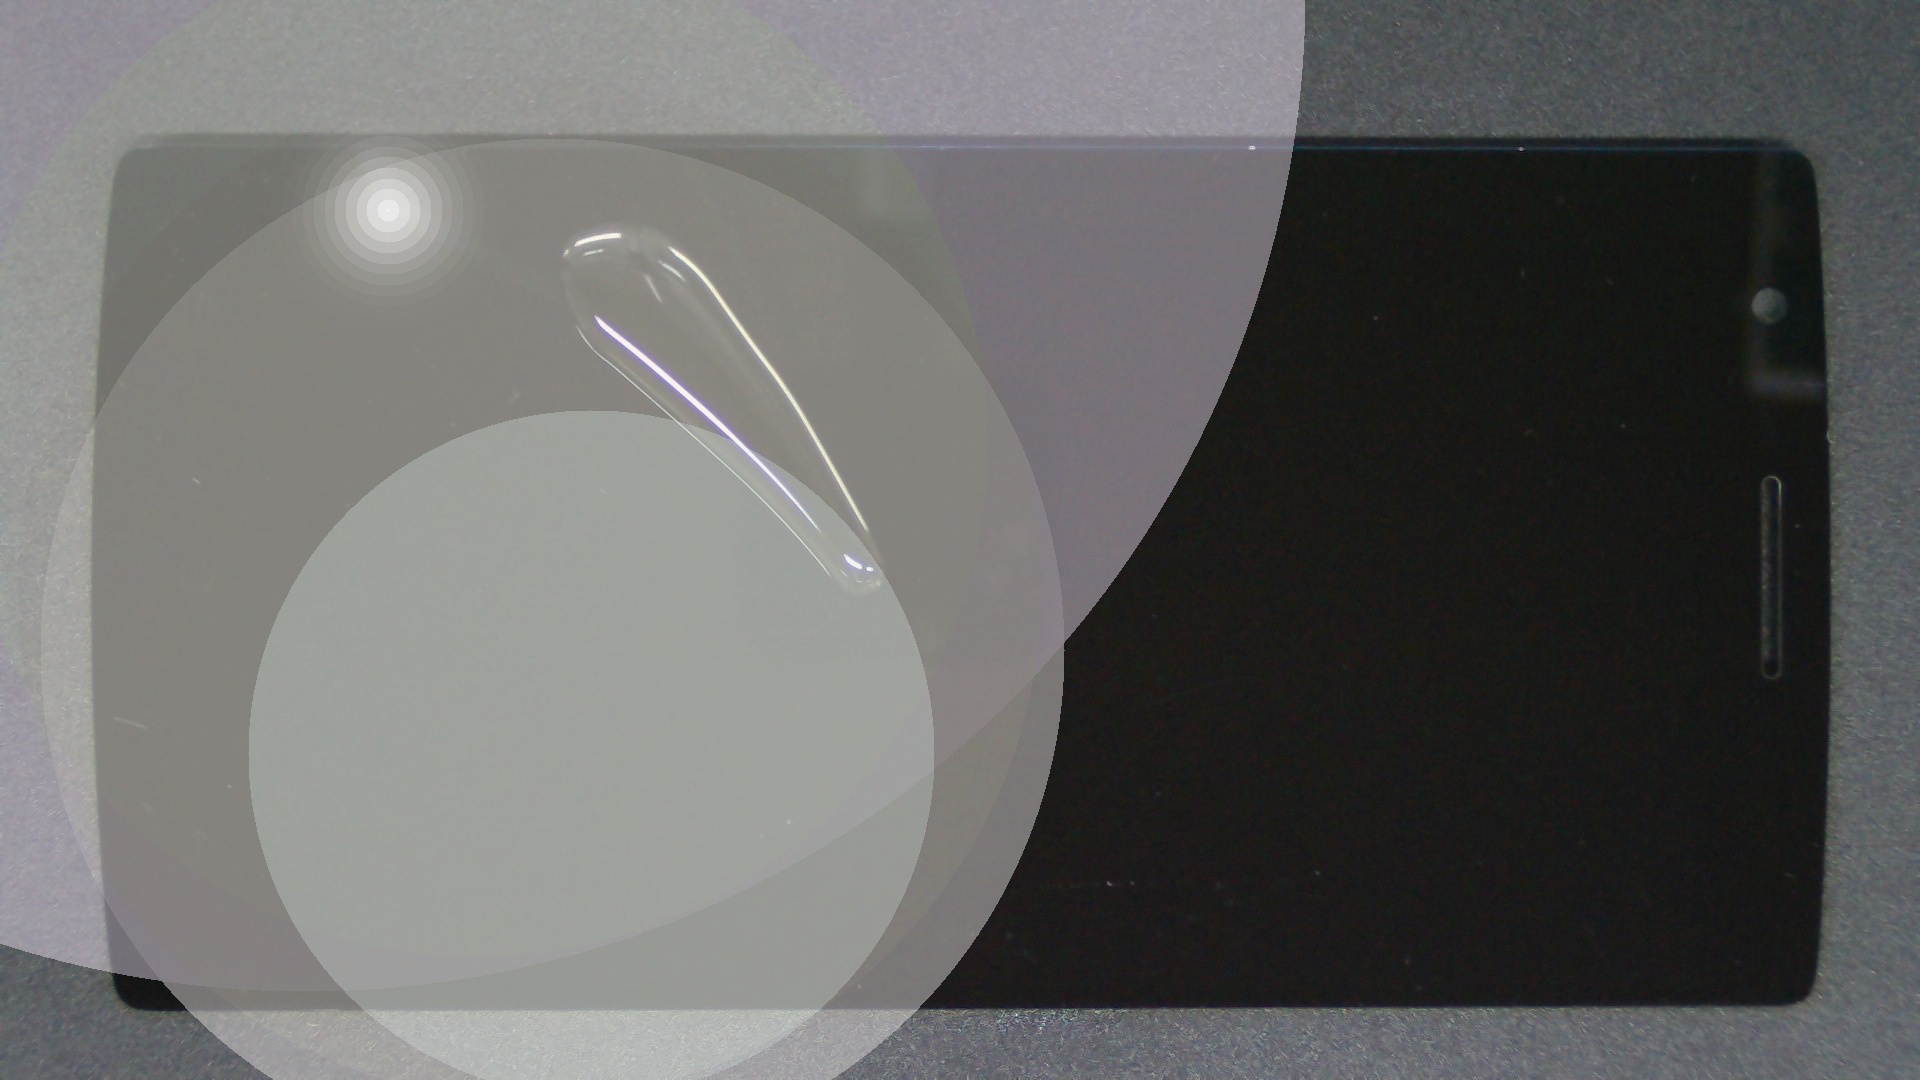oil: (320, 111, 957, 334)
